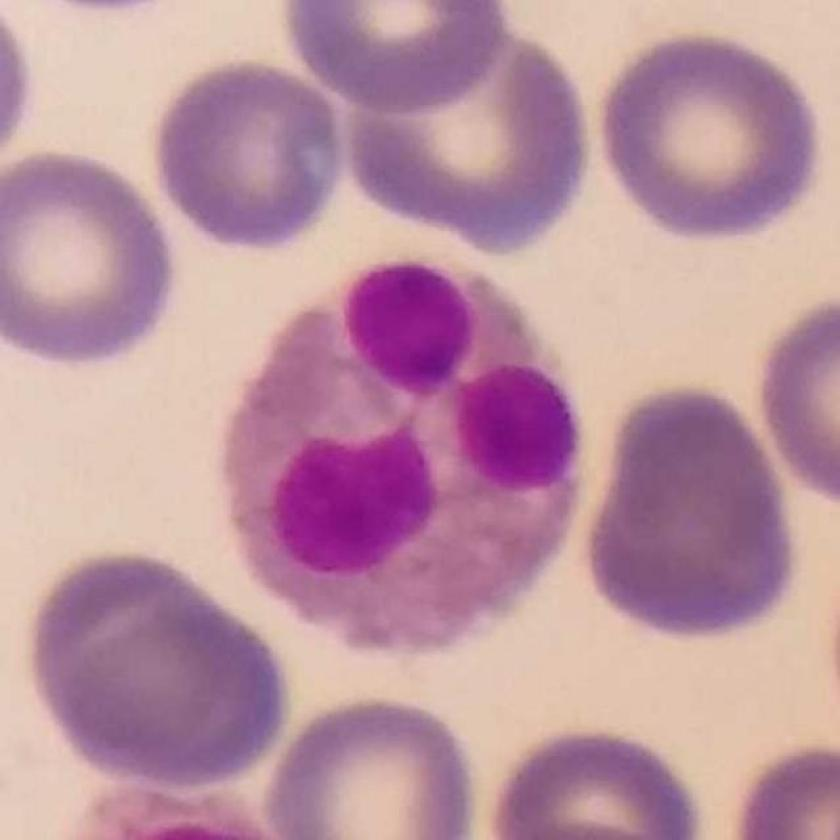eosinophil: (218, 245, 583, 663)
